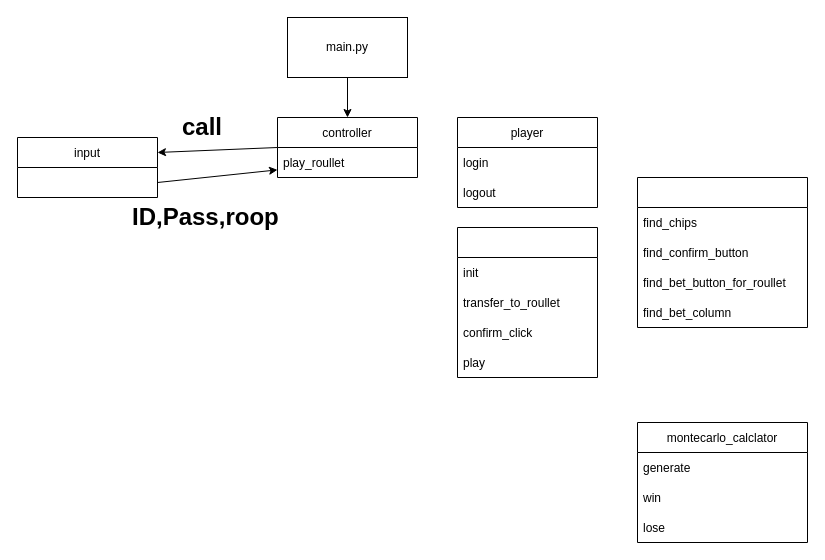
Some shapes in this 825 by 560 pixel diagram are drawn without their labels. The shapes that lost their labels are listed below. From the top down, each one's box as (x1, y1, x2, y2) in pixels, then its label:
(636, 176, 808, 328): find_utils
(456, 226, 598, 378): roulet_player
